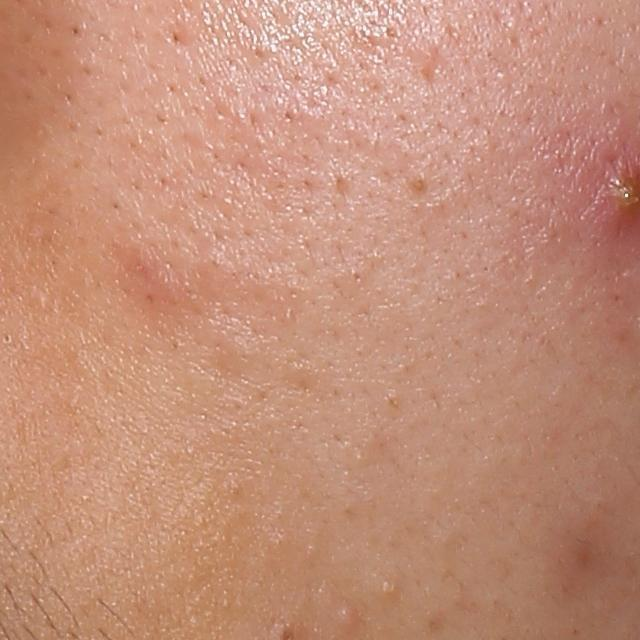comedo: (376, 574, 403, 600), (334, 601, 358, 628)
